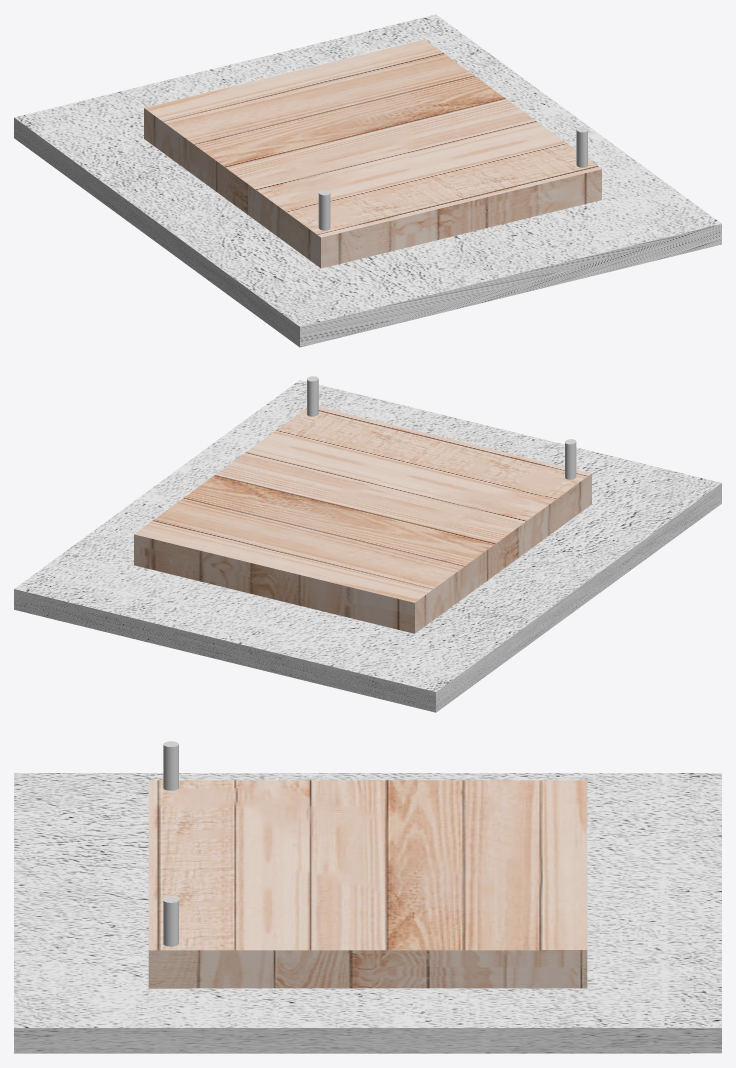
Rendered from tablado3-3.gltf.
3 renders of one model, top to bottom at view 1: azimuth 30°, elevation 25°; view 2: azimuth 150°, elevation 25°; view 3: azimuth 270°, elevation 25°, orthographic. The views are drawn at different scales.
Parts seen in each view (by area): view 1: Cube.002, Cube.001; view 2: Cube.002, Cube.001; view 3: Cube.002, Cube.001, Cylinder.002, Cylinder.000.
Boxes of the visible parts, x1,y1,x2,y2 form: Cube.002: (14, 14, 721, 347); Cube.001: (144, 39, 601, 268); Cube.002: (14, 380, 721, 712); Cube.001: (134, 407, 591, 633); Cube.002: (14, 773, 721, 1053); Cube.001: (148, 780, 587, 988); Cylinder.002: (163, 741, 178, 790); Cylinder.000: (163, 897, 178, 946).
Size of the model in its own units: 3.63 by 0.7142 by 4.26.
4 materials, 2 textured.
